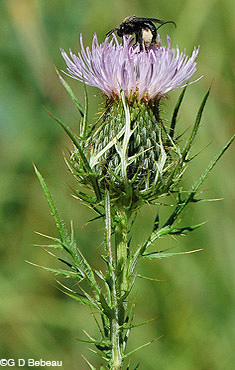thistle: (46, 35, 199, 201)
